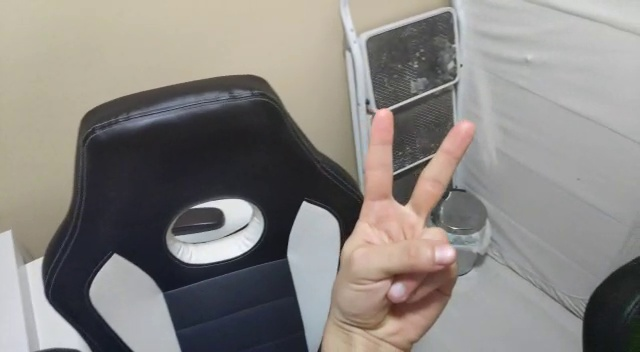Peace: (324, 107, 480, 334)
